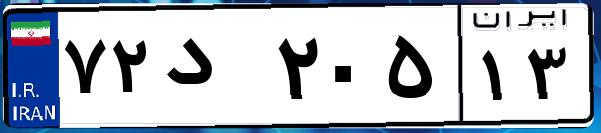0: (330, 28, 385, 110)
1: (475, 38, 525, 113)
2: (270, 28, 330, 110), (110, 28, 158, 98)
3: (525, 38, 570, 115)
5: (385, 28, 445, 110)
7: (57, 26, 110, 100)
د: (158, 20, 270, 120)
